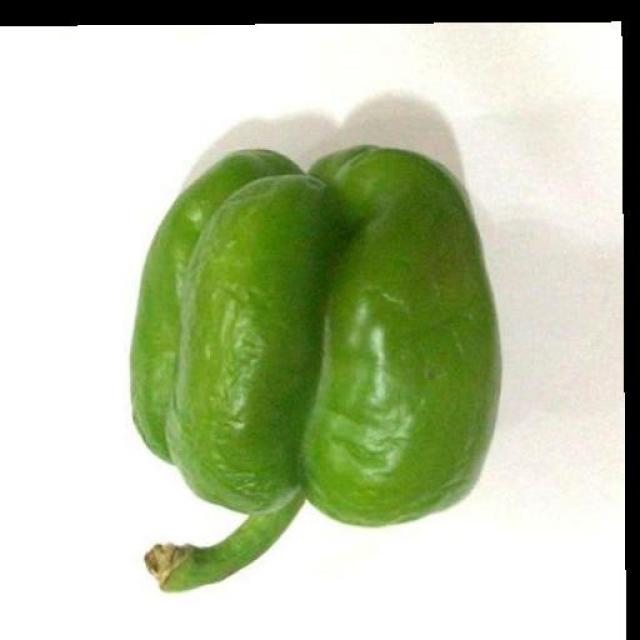Fresh_Capsicum: (152, 170, 550, 564)
